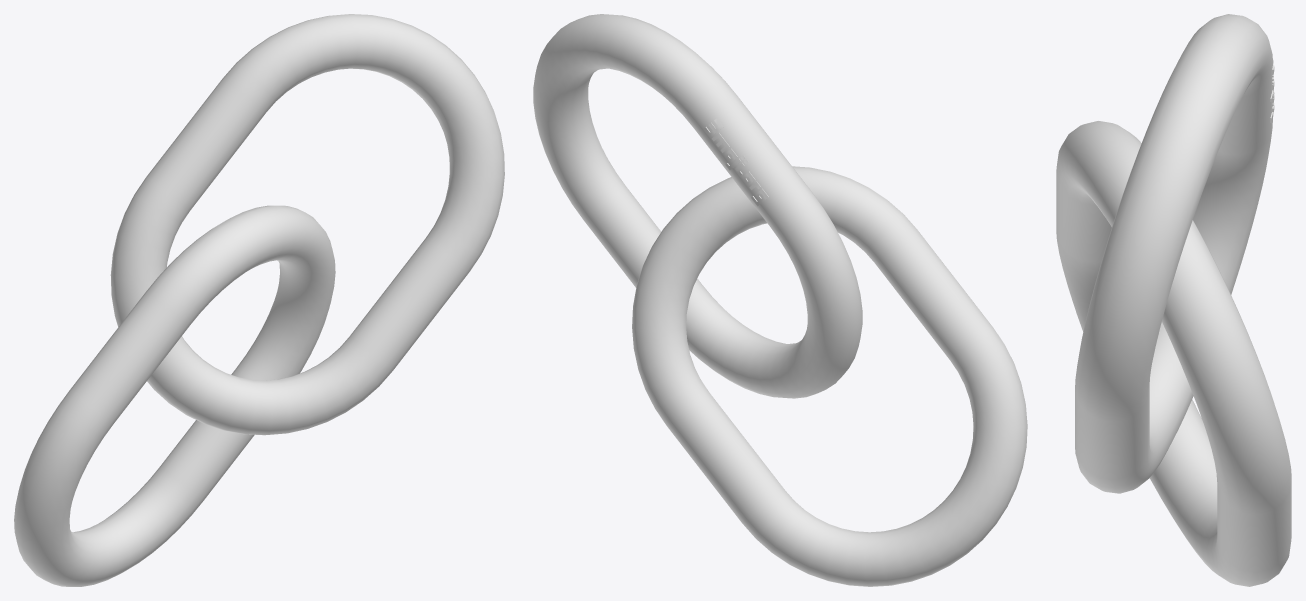
3 views of the same model, side by side, from view 1: azimuth 30°, elevation 25°; view 2: azimuth 150°, elevation 25°; view 3: azimuth 270°, elevation 25° (orthographic). The views are drawn at different scales.
Parts seen in each view (by area): view 1: Torus.010; view 2: Torus.010; view 3: Torus.010.
Part boxes in pixels (x1=…): Torus.010: x1=14, y1=14, x2=504, y2=586; Torus.010: x1=533, y1=14, x2=1027, y2=586; Torus.010: x1=1056, y1=14, x2=1291, y2=586.
Bounding box in the file's own units: 2.11 × 2.11 × 0.6617.
1 material, 1 textured.
